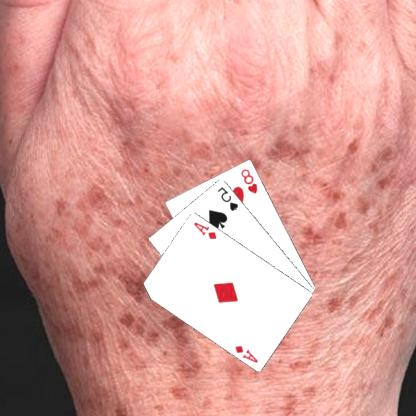5S: (216, 183, 242, 212)
8H: (240, 165, 261, 195)
AD: (234, 342, 261, 364), (192, 219, 220, 240)
